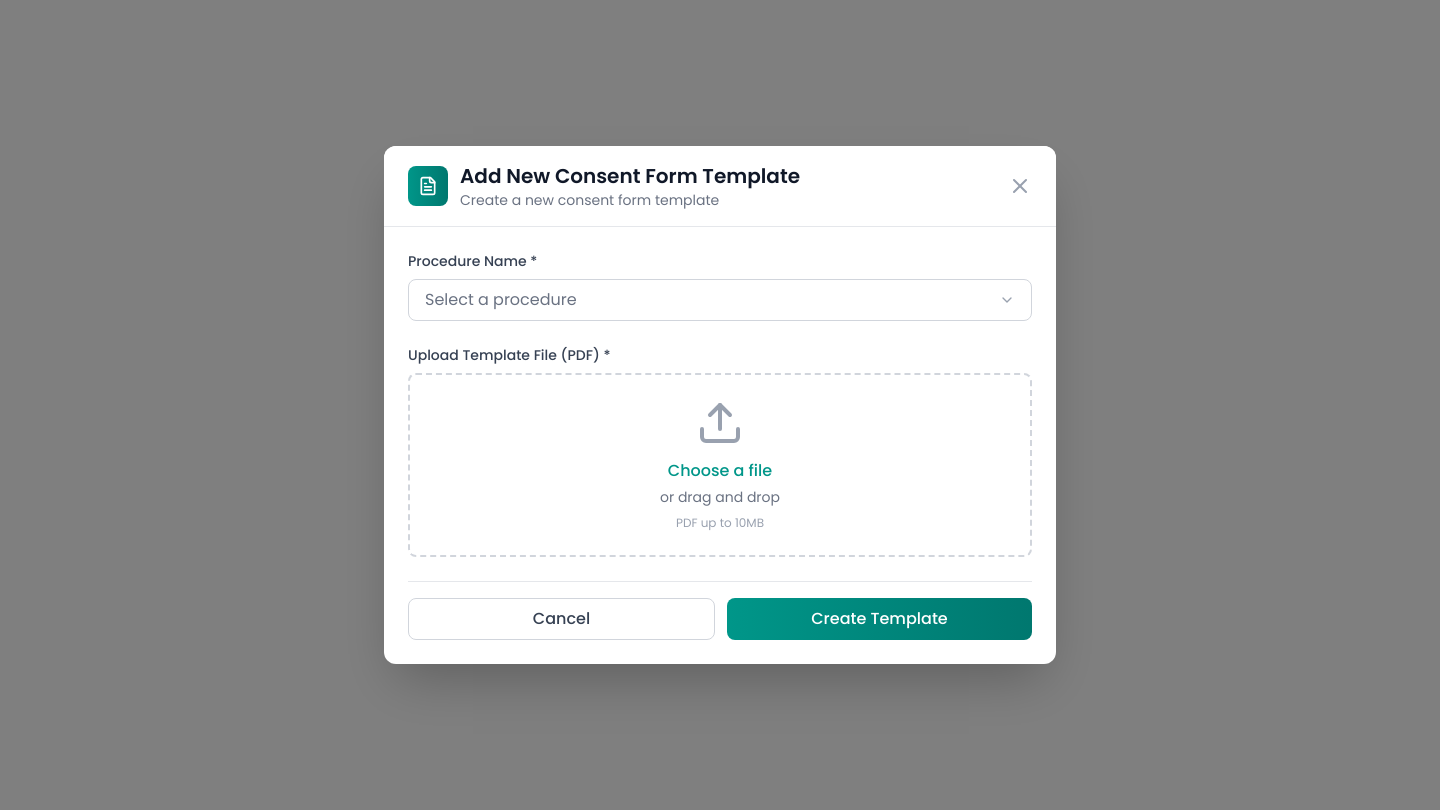
it: AddConsentFormModal › Dropdown Functionality › should select Biopsy procedure
Click the button "Select a procedure".
click(501, 300)  # box [408,279,1032,321]
(page scrolled)
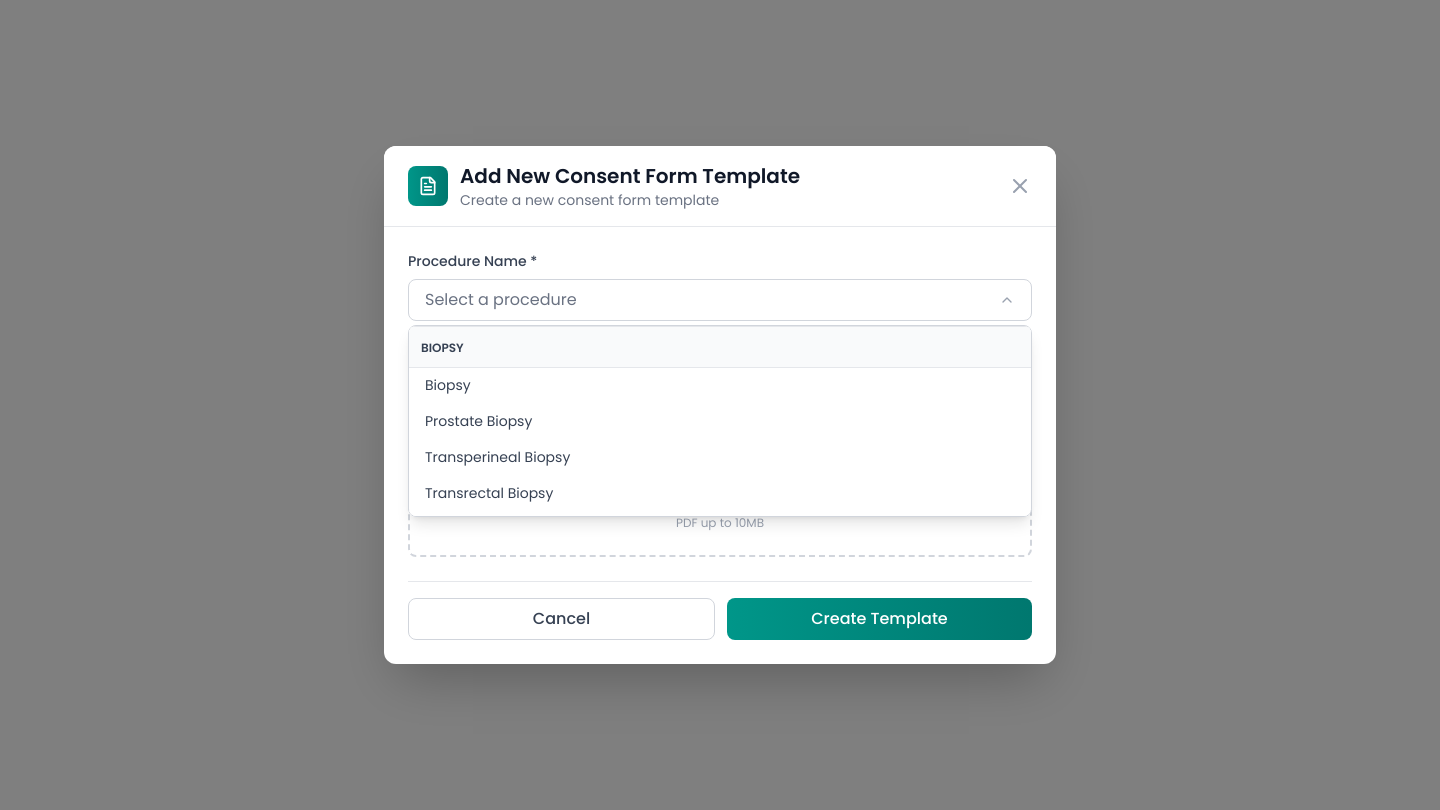
Click the button "Prostate Biopsy".
click(479, 421)  # box [409,403,1031,439]
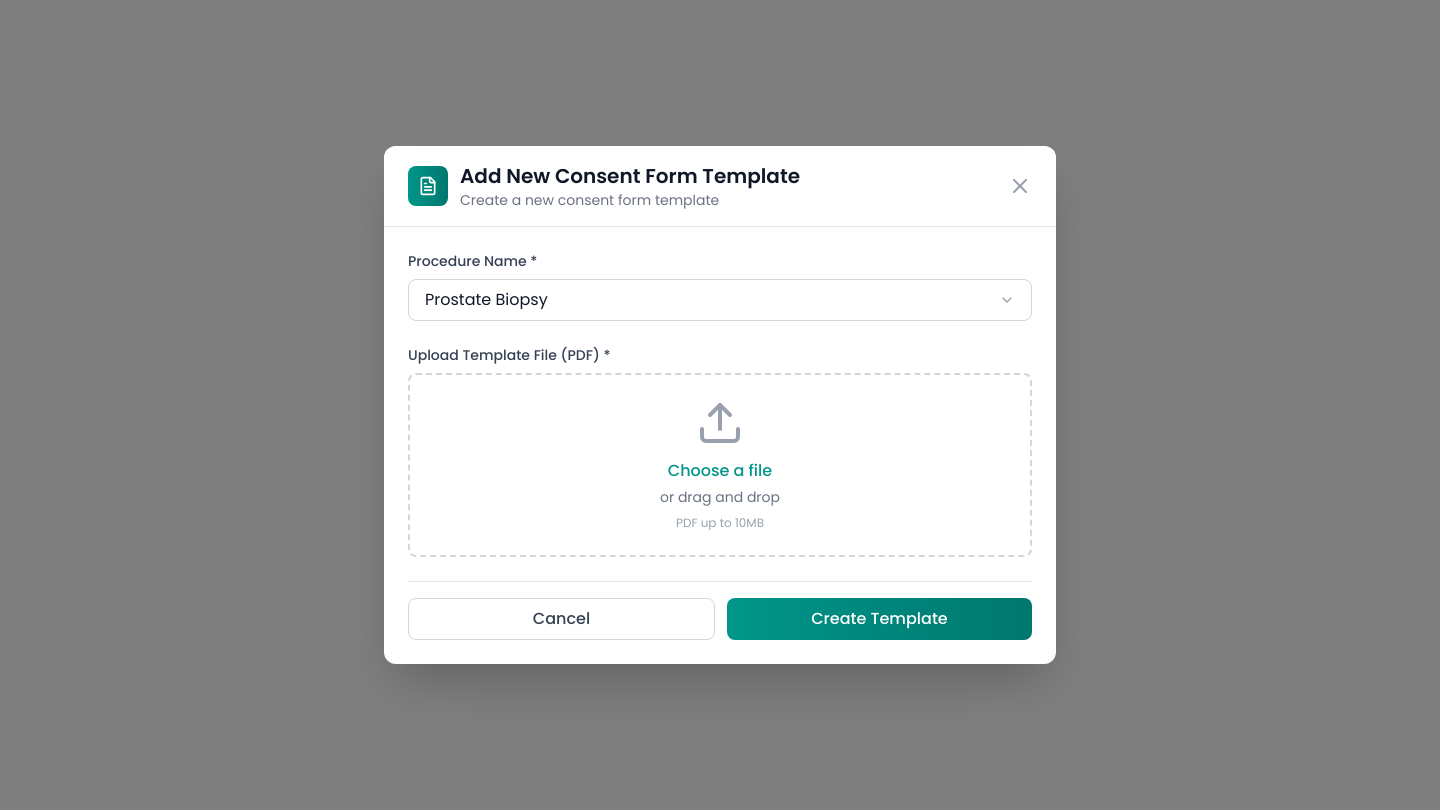
Expected: the text "Prostate Biopsy" is shown, [425,288,548,312]
